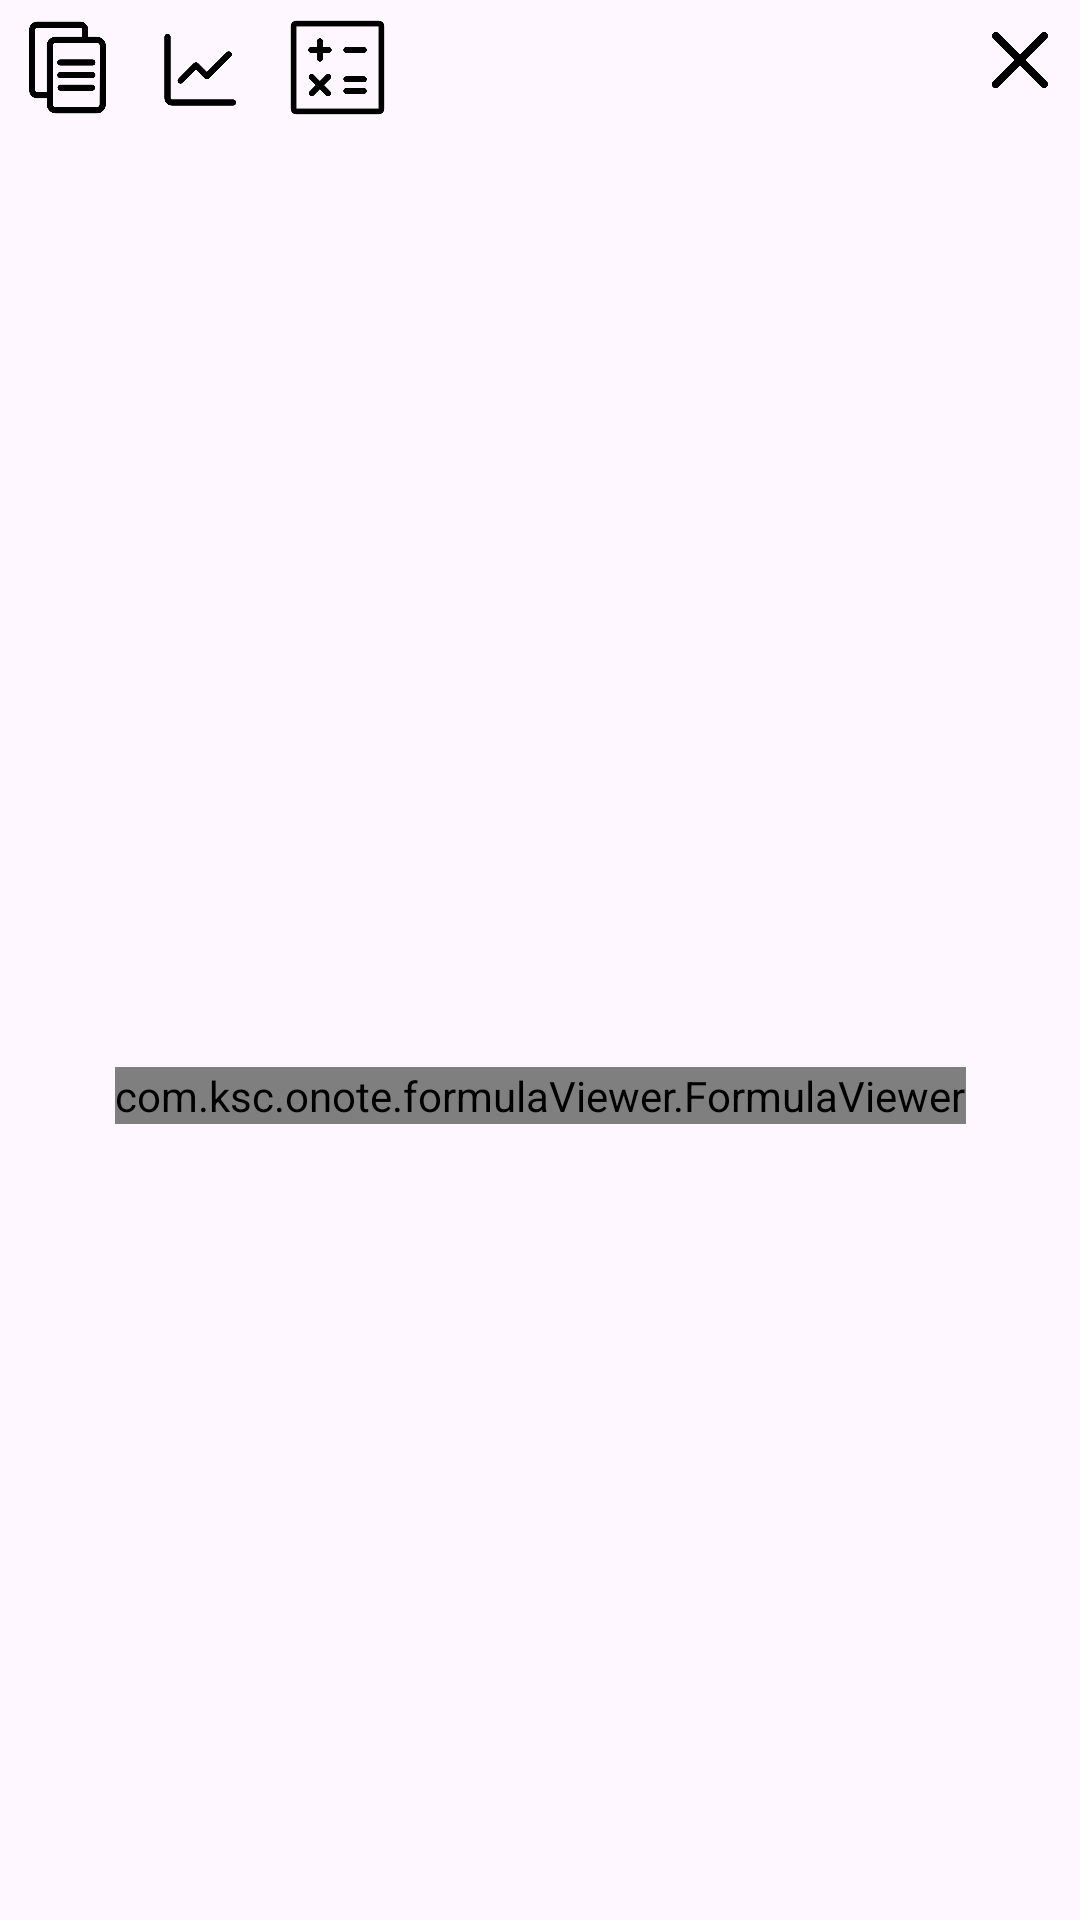

Named icons in this screenshot (1080 × 1920) and their centers, (x,y):
calculate: (337,67)
close: (1020,60)
graph: (200,70)
